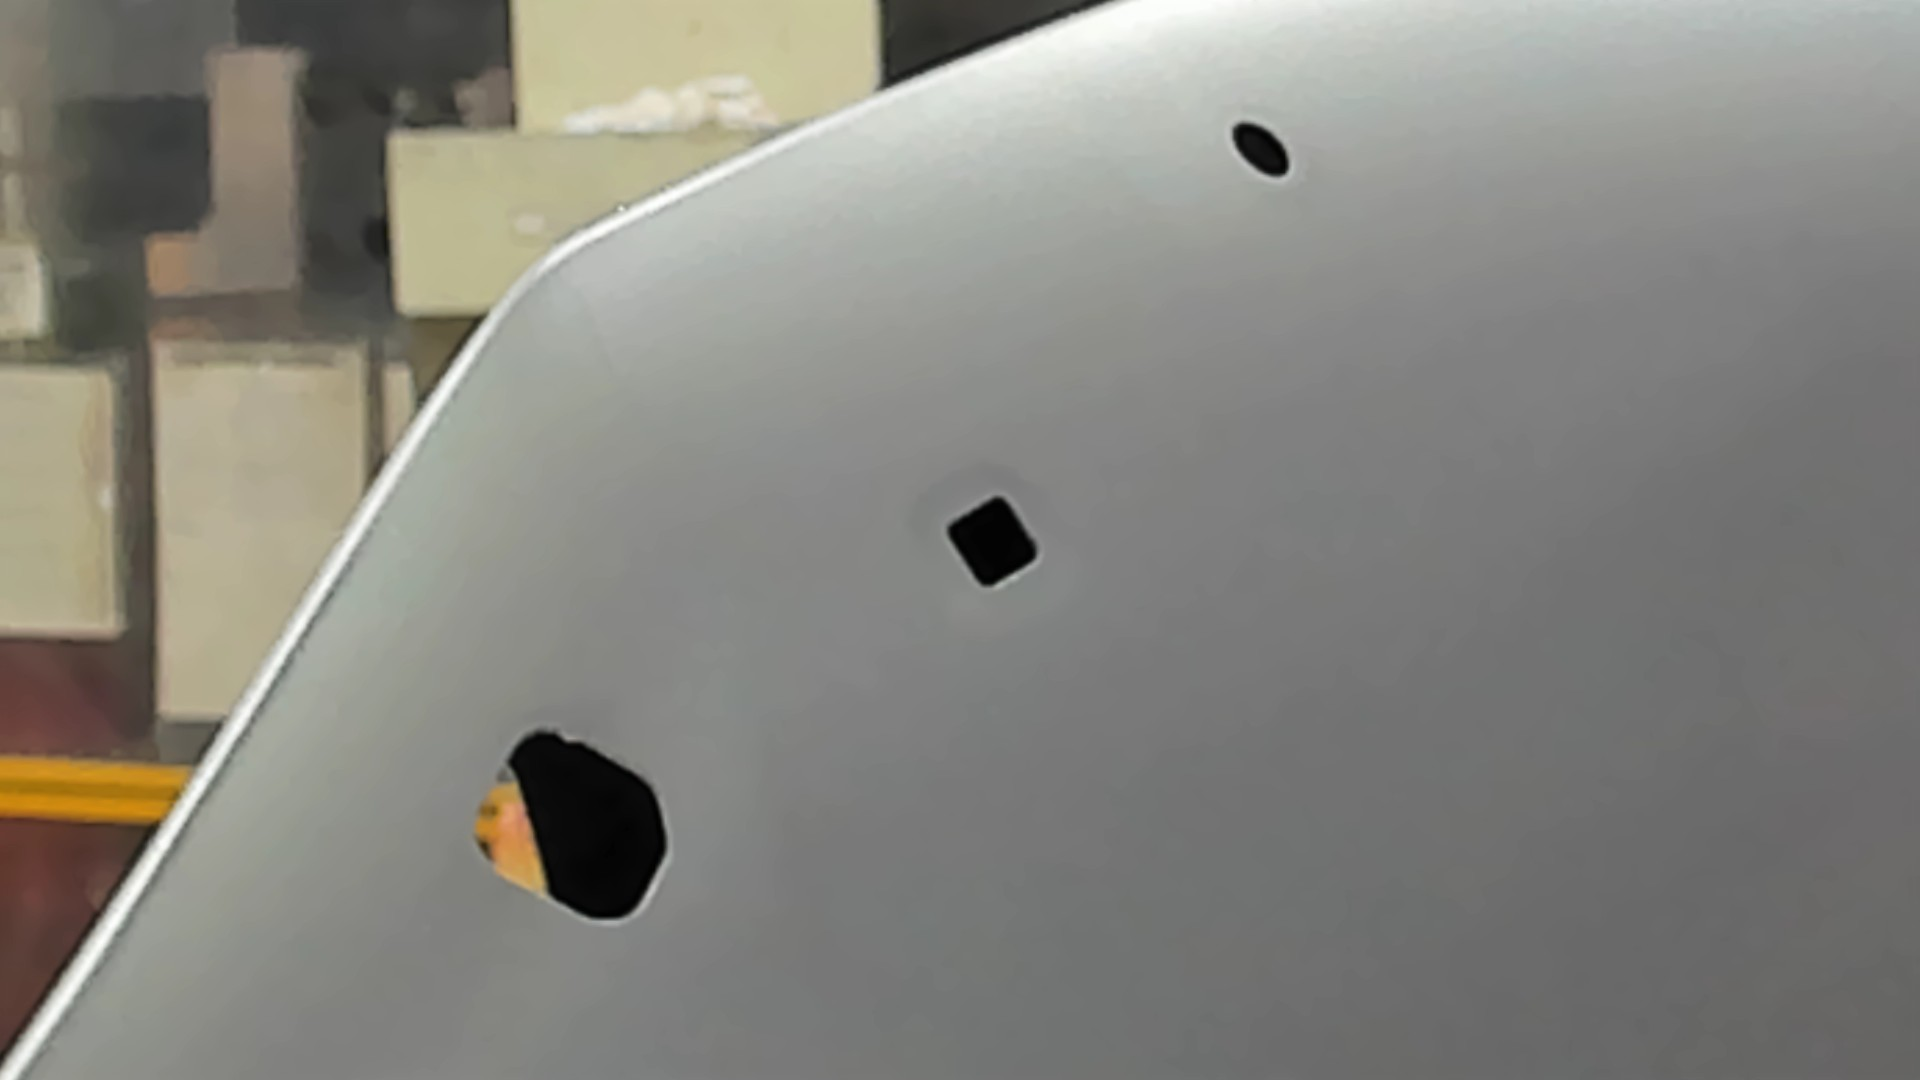capo: (1048, 187, 1920, 1080)
chico: (1226, 115, 1294, 185)
grande: (464, 719, 676, 932)
mediano: (939, 487, 1047, 597)
